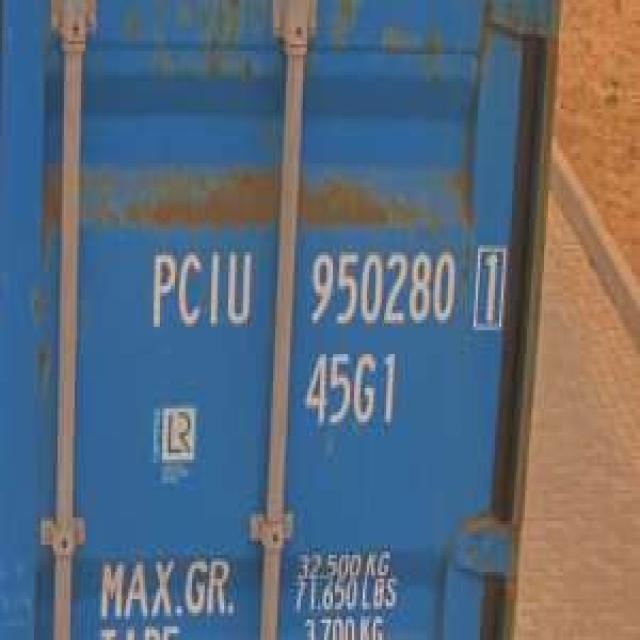dv: (465, 241, 509, 337)
owner: (146, 244, 260, 336)
serial: (302, 236, 458, 329)
size: (299, 343, 399, 434)
